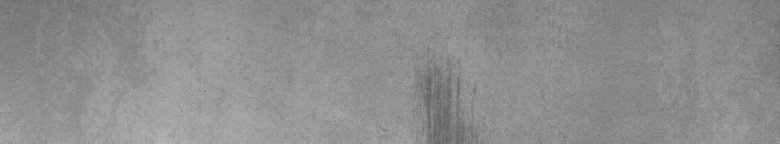ka: (420, 65, 464, 136)
